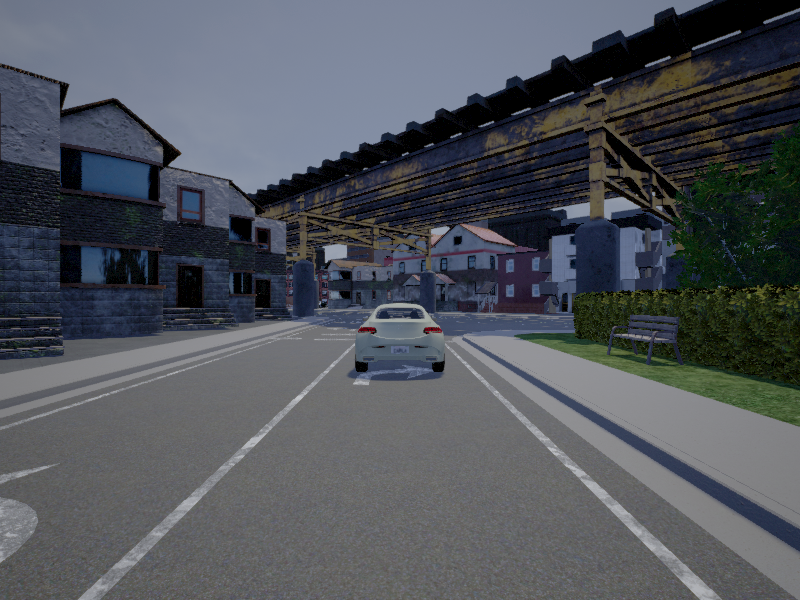Benign: (357, 301, 446, 376)
